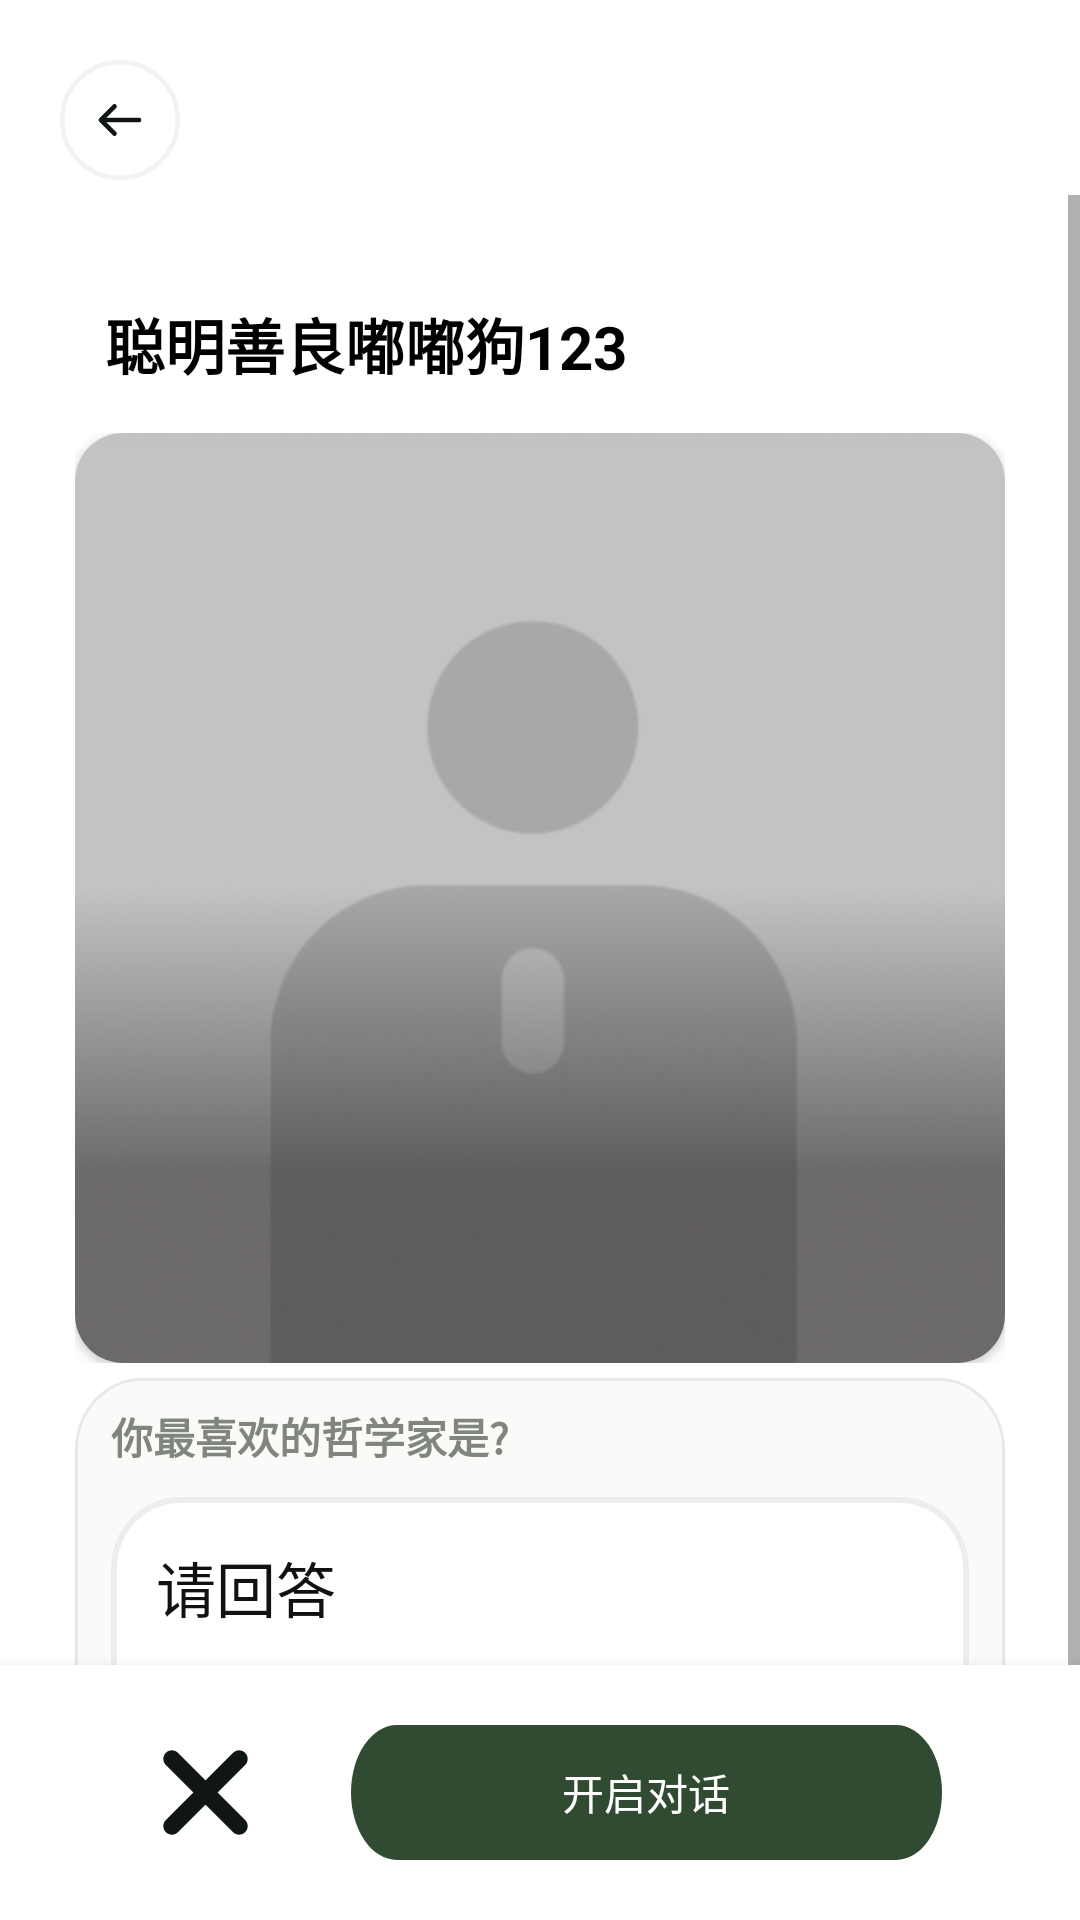

Icon bounding boxes for this 1080x1920 phone screenshot, format [x1,y1,x2,y2]:
back: [98,104,142,136]
cancel: [163,1750,248,1835]
